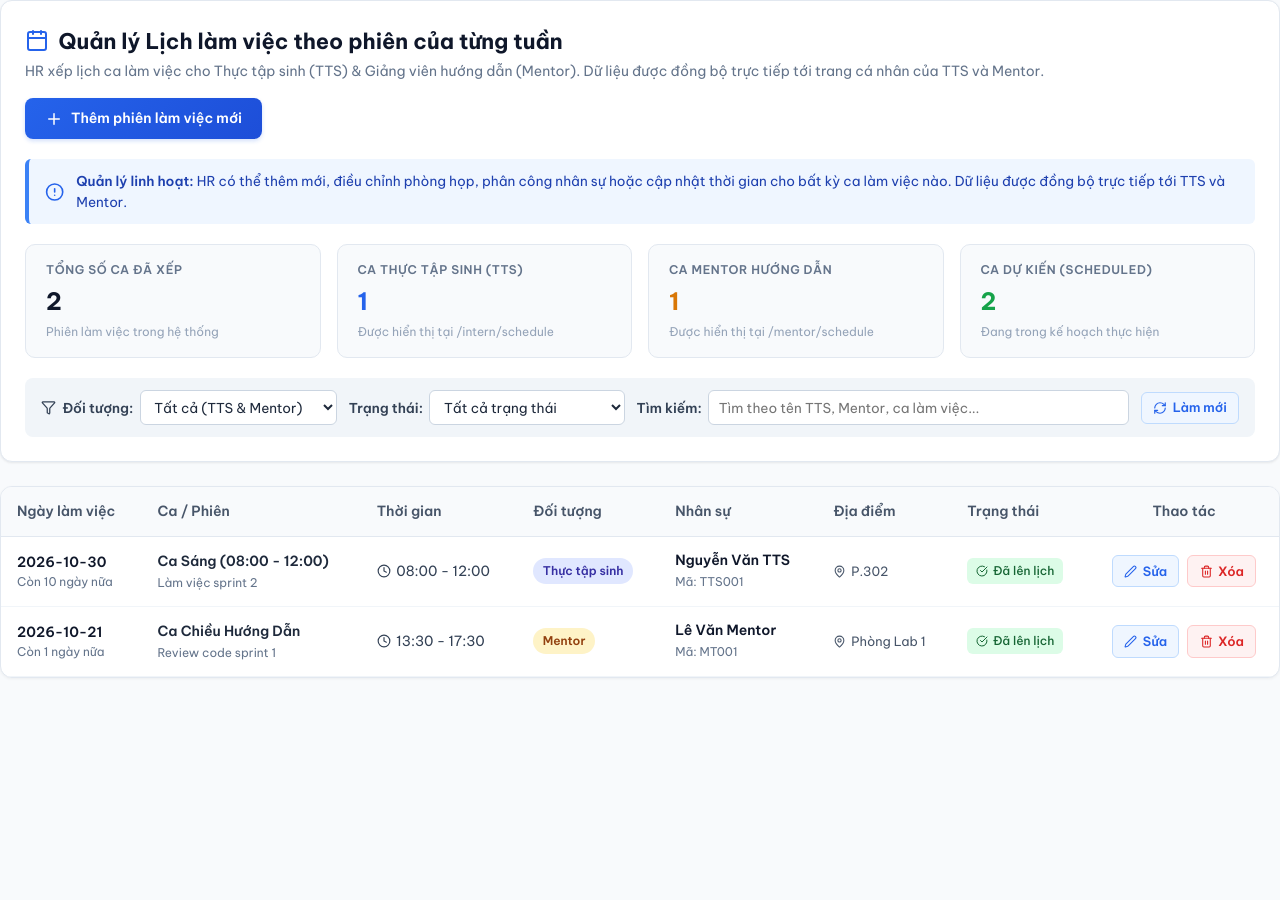
Test: WeeklyWorkScheduleManager Component Test Suite › 2. Bỏ quy tắc 3 ngày: Nút Sửa luôn khả dụng và cho phép chỉnh sửa mọi phiên làm việc
Check: the text "Ca Chiều Hướng Dẫn" is shown, box [158,622,300,640]
Check: the button with aria-label "Sửa ca Ca Sáng" is enabled, box [1112,555,1179,587]
Bấm nút Sửa mở modal chỉnh sửa thành công
Click the button with aria-label "Sửa ca Ca Chiều" at point(1146, 641), box [1112,625,1179,658]
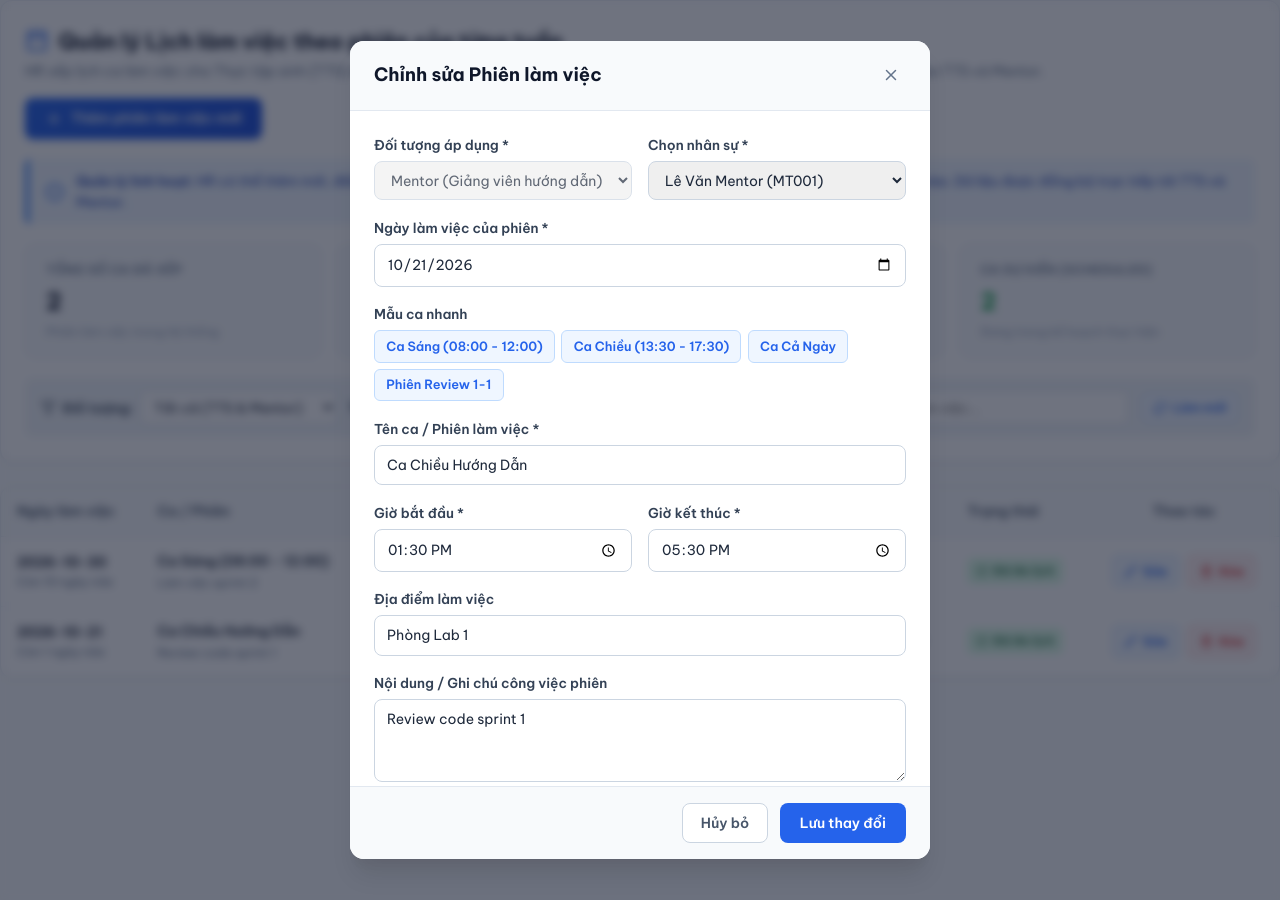
Check: the heading "Chỉnh sửa Phiên làm việc" is shown, box [374,61,602,89]
